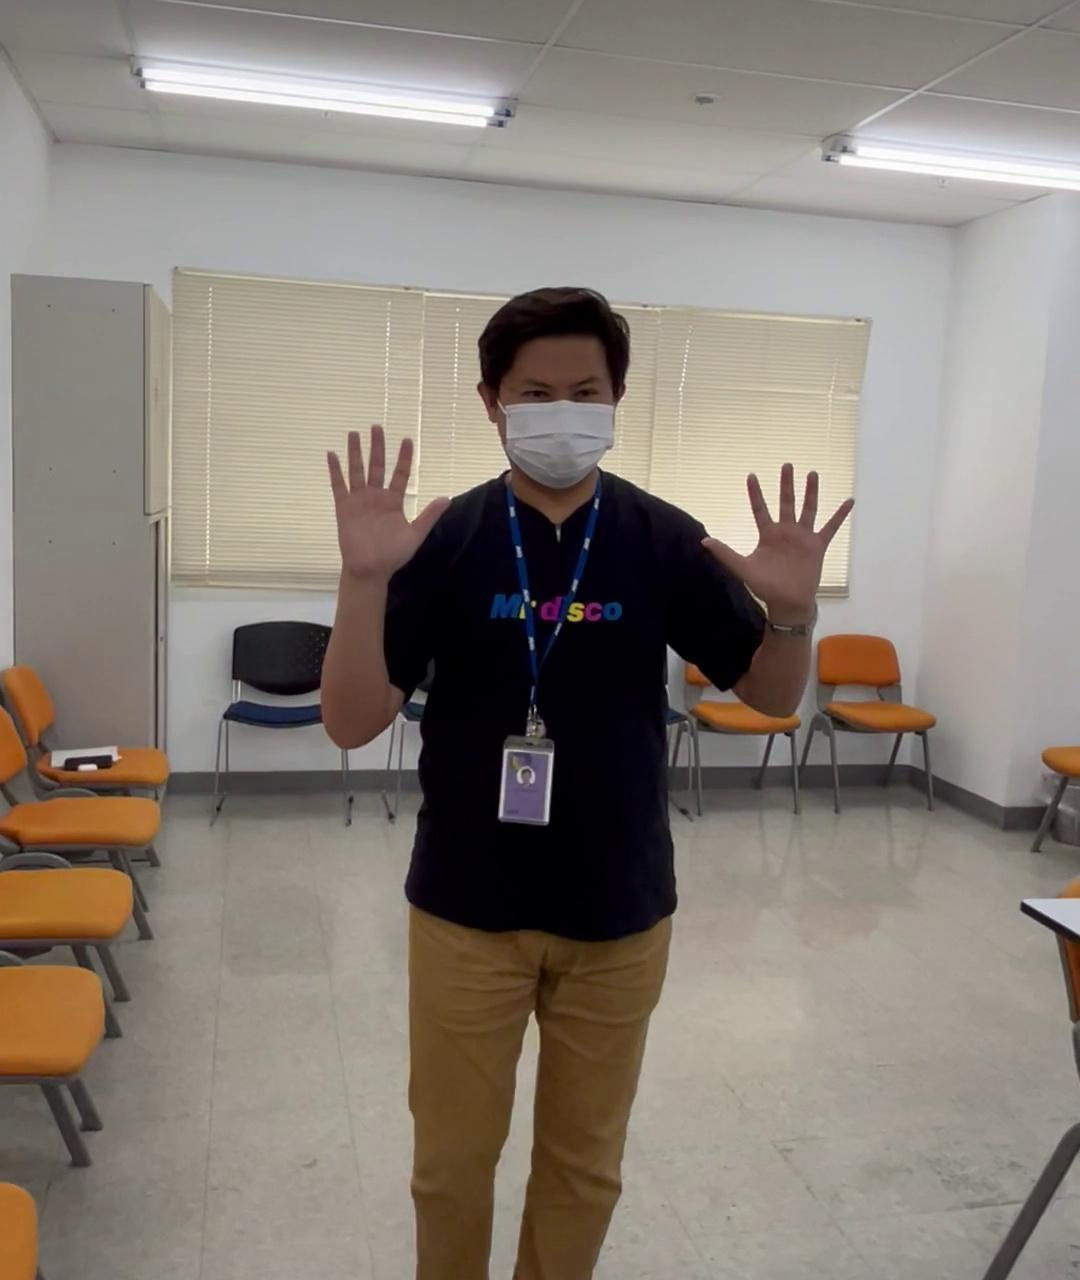No-gloves: (697, 460, 856, 606), (322, 417, 448, 569)
